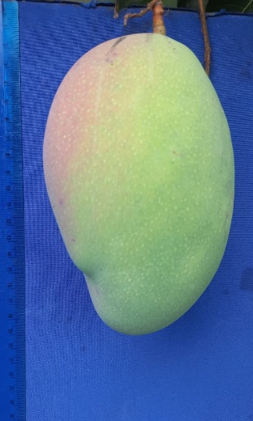Mango-sano: (43, 16, 234, 334)
